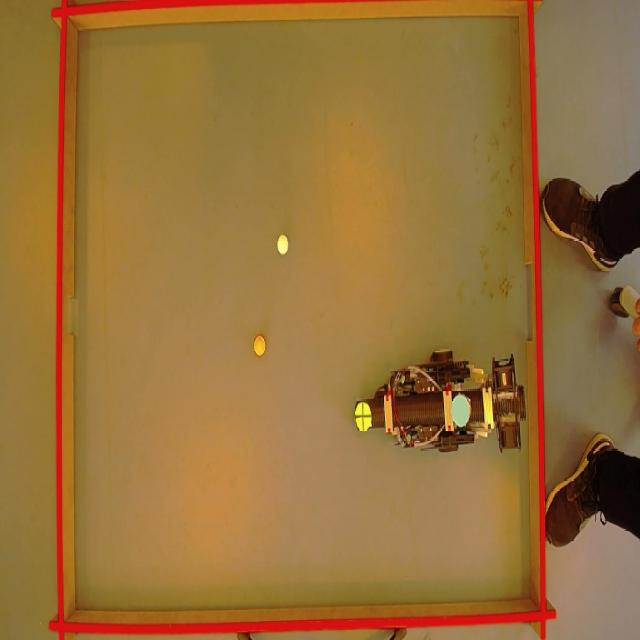orange: (252, 333, 267, 357)
robot: (356, 351, 540, 462)
robot-front: (353, 399, 372, 434)
robot-rear: (437, 383, 486, 441), (449, 389, 469, 429)
white: (275, 233, 289, 254)
